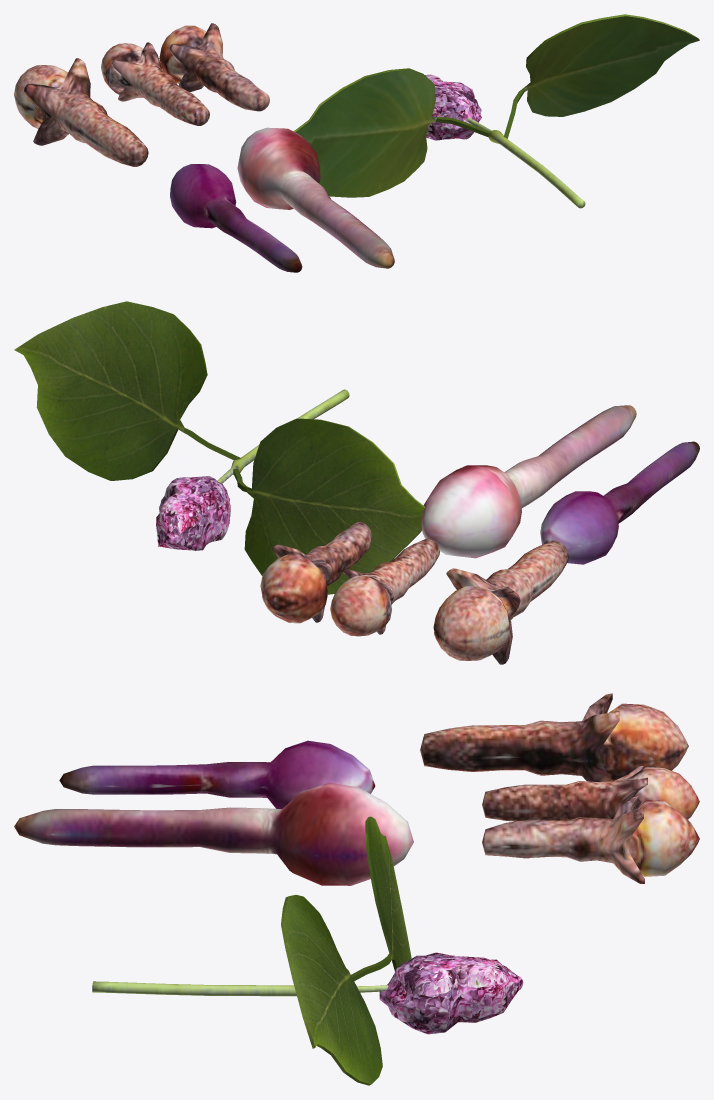
File: dingxiang.FBX
3 renders of one model, top to bottom at view 1: azimuth 30°, elevation 25°; view 2: azimuth 150°, elevation 25°; view 3: azimuth 270°, elevation 25°, orthographic. The views are drawn at different scales.
Parts seen in each view (by area): view 1: Line001, Line002, Cylinder005, Cylinder001, Cylinder004, Cylinder002, Cylinder003, Box002, Cylinder006; view 2: Line002, Line001, Cylinder005, Cylinder001, Cylinder004, Cylinder002, Cylinder003, Box002, Cylinder006; view 3: Cylinder005, Cylinder001, Cylinder004, Cylinder002, Line002, Box002, Cylinder003, Line001, Cylinder006.
Boxes of the visible parts, left/top/right/bottom form: Line001: left=293, top=68, right=490, bottom=197; Line002: left=503, top=14, right=699, bottom=138; Cylinder005: left=237, top=127, right=394, bottom=268; Cylinder001: left=14, top=58, right=148, bottom=166; Cylinder004: left=170, top=164, right=302, bottom=272; Cylinder002: left=159, top=23, right=269, bottom=111; Cylinder003: left=101, top=42, right=209, bottom=125; Box002: left=425, top=74, right=481, bottom=140; Cylinder006: left=467, top=117, right=585, bottom=208; Line002: left=14, top=301, right=240, bottom=480; Line001: left=233, top=418, right=424, bottom=594; Cylinder005: left=421, top=405, right=636, bottom=558; Cylinder001: left=433, top=540, right=568, bottom=664; Cylinder004: left=540, top=441, right=699, bottom=564; Cylinder002: left=260, top=522, right=371, bottom=623; Cylinder003: left=330, top=538, right=439, bottom=636; Box002: left=156, top=476, right=230, bottom=550; Cylinder006: left=217, top=389, right=349, bottom=483; Cylinder005: left=14, top=782, right=413, bottom=885; Cylinder001: left=420, top=693, right=688, bottom=781; Cylinder004: left=59, top=740, right=375, bottom=808; Cylinder002: left=482, top=796, right=699, bottom=883; Line002: left=281, top=895, right=382, bottom=1085; Box002: left=379, top=952, right=523, bottom=1034; Cylinder003: left=482, top=766, right=699, bottom=821; Line001: left=351, top=816, right=411, bottom=981; Cylinder006: left=92, top=981, right=388, bottom=996.
Size of the model in its own units: 444 by 130 by 368.
1 material, 1 textured.
